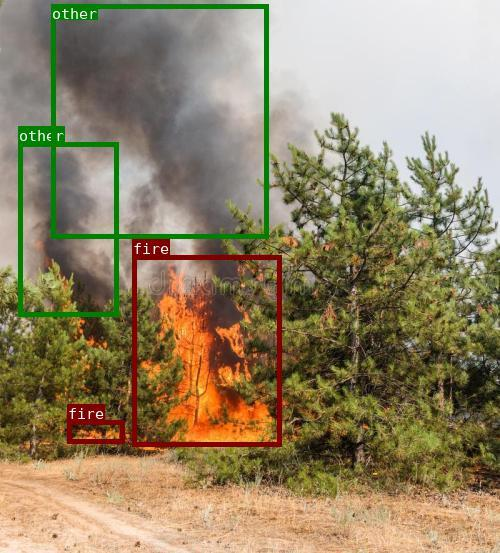fire: (131, 254, 280, 446), (66, 419, 124, 442)
other: (50, 4, 267, 238), (17, 142, 117, 315)
